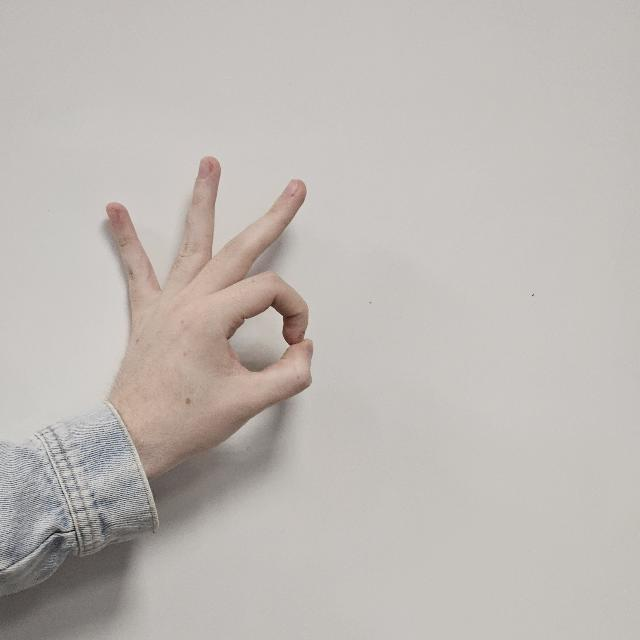Bolinha: (101, 150, 332, 477)
